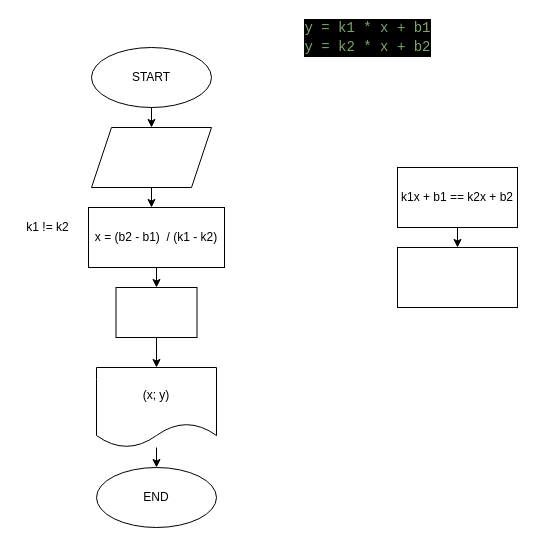
This 535x545 diagram has some shape labels left out. Each missing label, with the centre of its shape:
"(k1 - k2)x == b2 - b1" belongs at [457,277].
"k1, k2, b1, b2, x, y" belongs at [151,157].
"y = k2x + b1" belongs at [156,312].
